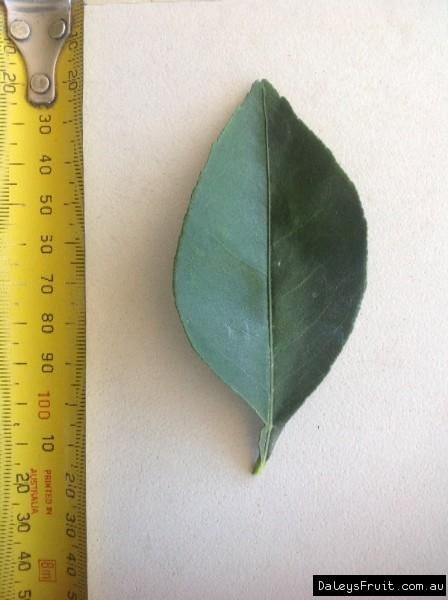Healthy Citrus: (166, 61, 376, 457)
